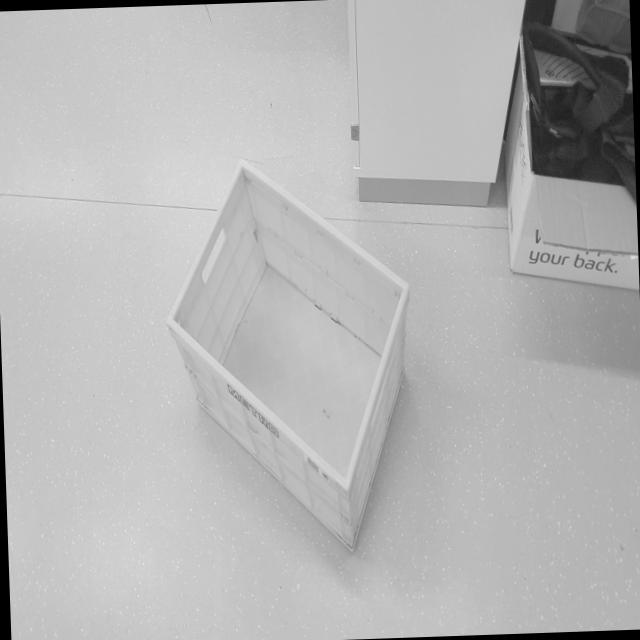box: (154, 145, 425, 572)
